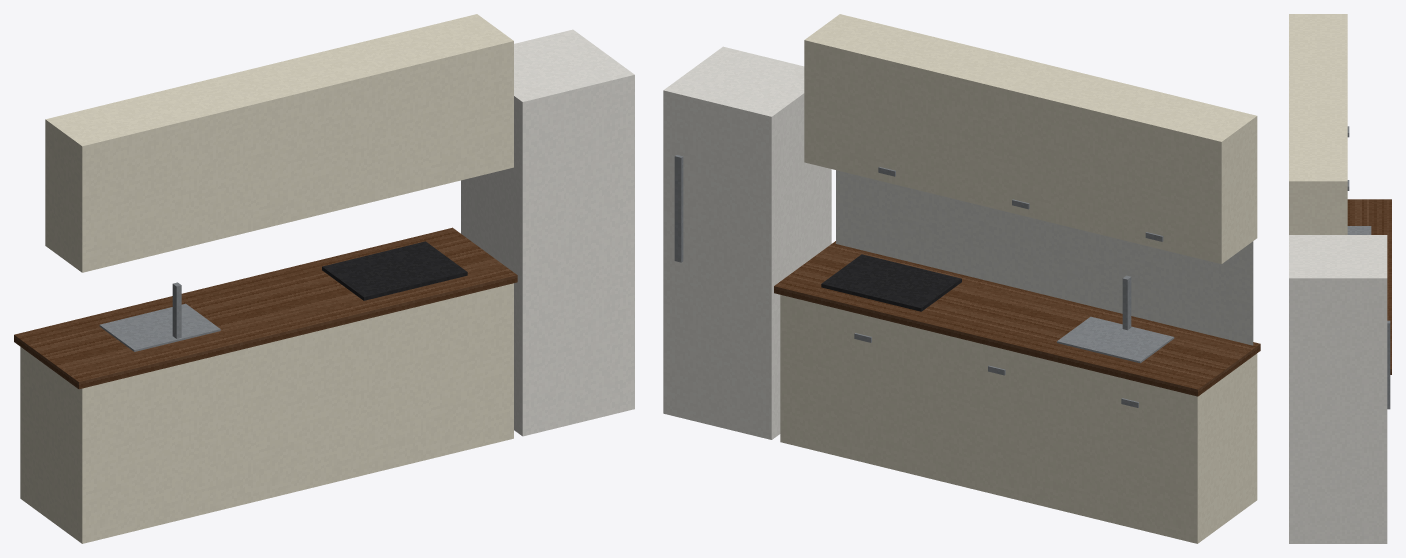
File: kitchen_run.glb
3 views of the same model, side by side, from view 1: azimuth 30°, elevation 25°; view 2: azimuth 150°, elevation 25°; view 3: azimuth 270°, elevation 25° (orthographic). The views are drawn at different scales.
Visible parts, largest first — view 1: kitchen_run; view 2: kitchen_run; view 3: kitchen_run.
Boxes of the visible parts, <box> form: kitchen_run: <box>14,14,634,543</box>; kitchen_run: <box>663,14,1260,543</box>; kitchen_run: <box>1289,14,1391,543</box>.
Bounding box in the file's own units: 3.22 × 2.2 × 0.65.
6 materials, 6 textured.
